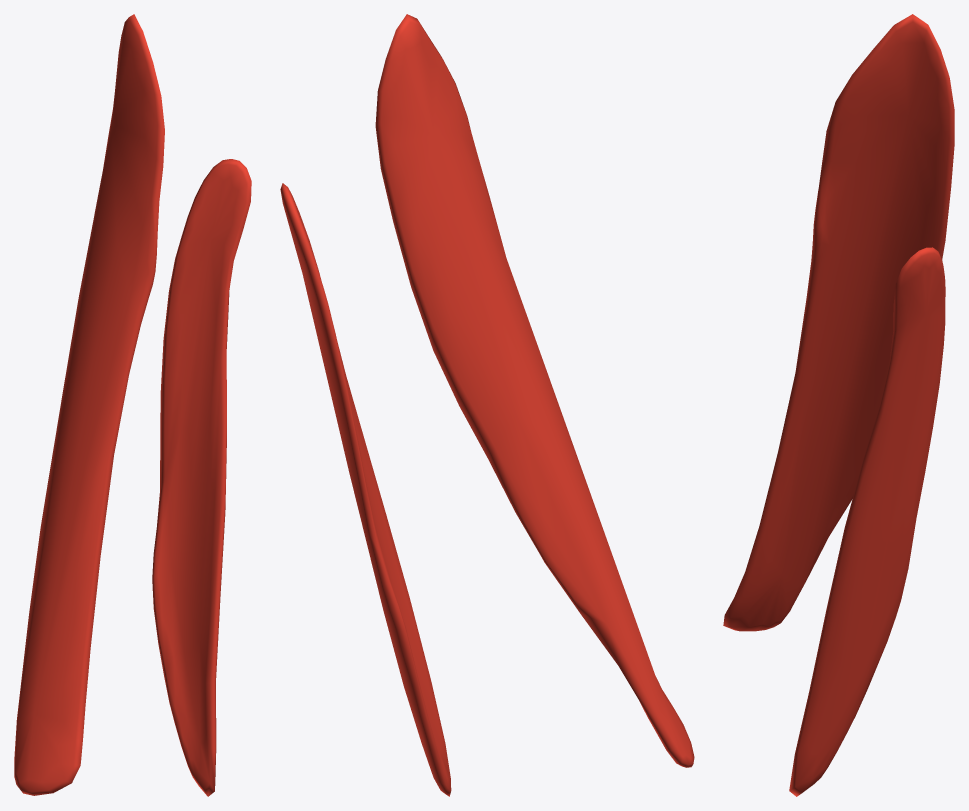
The model's file is Dorsal_interossei_2nd_metacarpal_right.glb.
3 renders of one model, left to right at view 1: azimuth 30°, elevation 25°; view 2: azimuth 150°, elevation 25°; view 3: azimuth 270°, elevation 25°, orthographic. The views are drawn at different scales.
Parts seen in each view (by area): view 1: Dorsal_interosseus_muscles_of_2d_metacarpal_bone.r_Generated; view 2: Dorsal_interosseus_muscles_of_2d_metacarpal_bone.r_Generated; view 3: Dorsal_interosseus_muscles_of_2d_metacarpal_bone.r_Generated.
Boxes of the visible parts, left/top/right/bottom form: Dorsal_interosseus_muscles_of_2d_metacarpal_bone.r_Generated: left=14, top=14, right=251, bottom=796; Dorsal_interosseus_muscles_of_2d_metacarpal_bone.r_Generated: left=280, top=14, right=694, bottom=796; Dorsal_interosseus_muscles_of_2d_metacarpal_bone.r_Generated: left=723, top=14, right=954, bottom=796.
Bounding box in the file's own units: 0.016 × 0.0383 × 0.0104.
